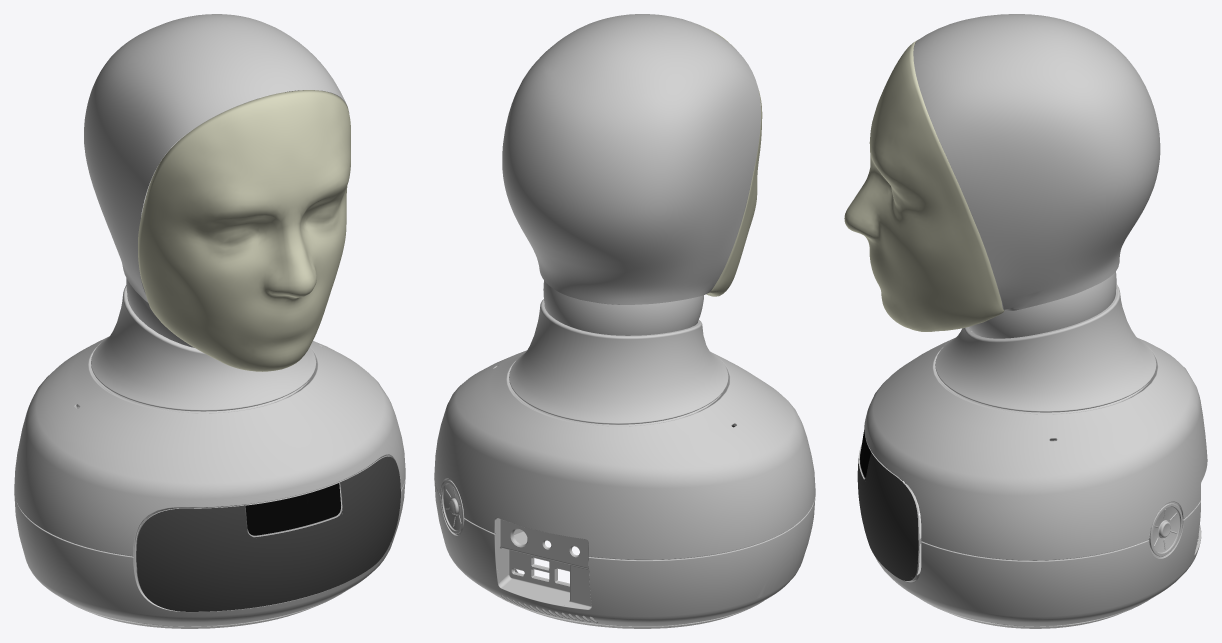
Rendered from furhat.obj.
3 renders of one model, left to right at view 1: azimuth 30°, elevation 25°; view 2: azimuth 150°, elevation 25°; view 3: azimuth 270°, elevation 25°, orthographic. The views are drawn at different scales.
Visible parts, largest first — view 1: Furhat; view 2: Furhat; view 3: Furhat.
Part boxes in pixels (box(x1,y1,x2,y2)): Furhat: box(14, 14, 405, 628); Furhat: box(434, 14, 815, 628); Furhat: box(844, 14, 1207, 628).
Size of the model in its own units: 0.268 by 0.4039 by 0.2463.
